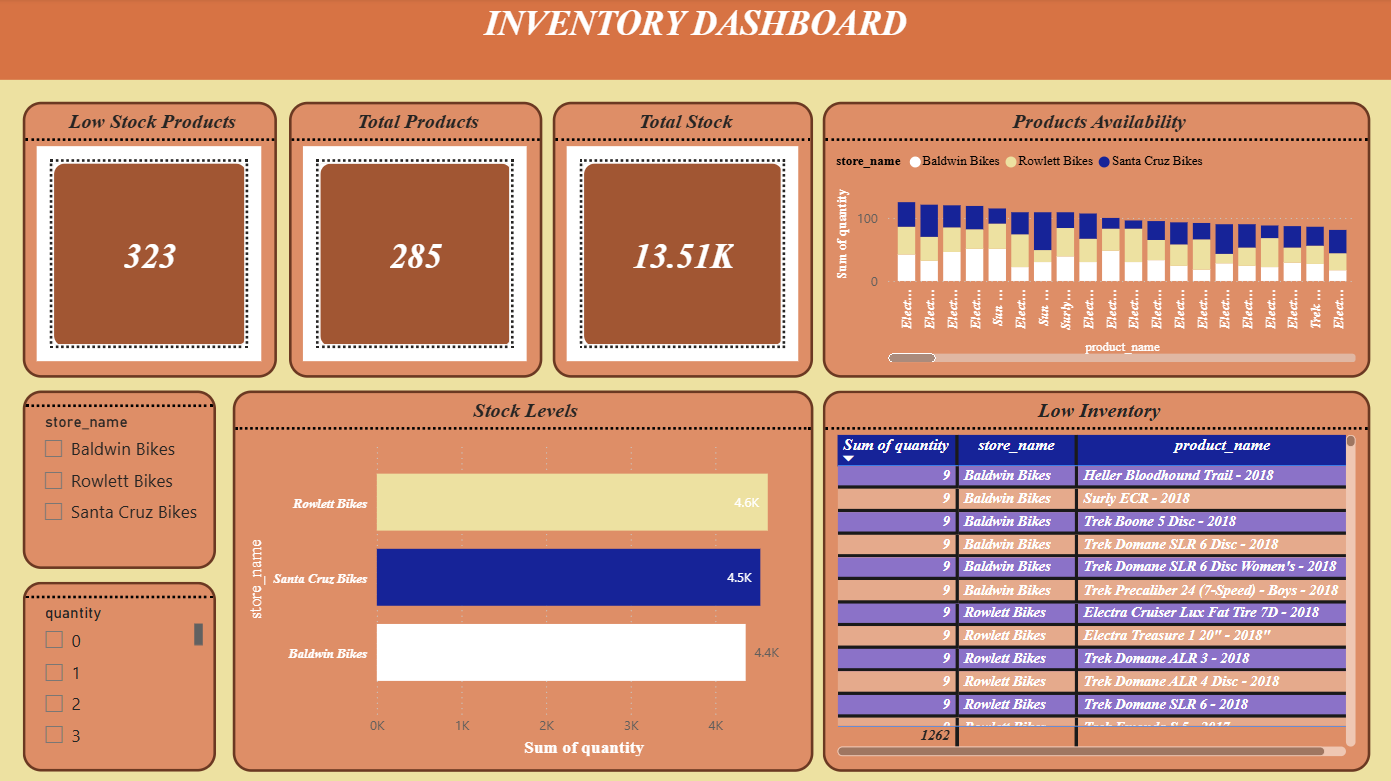

This screenshot's page, from the dashboard's own definition file:
{"tool":"powerbi","page":{"name":"INVENTORY DASHBOARD","canvas":[1280,720],"ordinal":1},"visuals":[{"type":"clusteredBarChart","title":"Stock Levels","fields":{"Category":["inventory_summary.store_name"],"Y":["Sum(inventory_summary.quantity)"]},"box":[215.1,360.5,533.7,350],"z":0},{"type":"tableEx","title":"Low Inventory","fields":{"Values":["Sum(inventory_summary.quantity)","inventory_summary.store_name","inventory_summary.product_name"]},"box":[757,360.5,503.5,350],"z":1000},{"type":"columnChart","title":"Products Availability","fields":{"Category":["inventory_summary.product_name"],"Y":["Sum(inventory_summary.quantity)"],"Series":["inventory_summary.store_name"]},"box":[757,95.3,503.5,253.5],"z":2000},{"type":"cardVisual","title":"Low Stock Products","fields":{"Data":["inventory_summary.Low Stock Products"]},"box":[22.1,95.3,233.7,253.5],"z":3000},{"type":"cardVisual","title":"Total Products","fields":{"Data":["inventory_summary.Total Products"]},"box":[266.3,95.3,232.6,253.5],"z":4000},{"type":"textbox","box":[0,0,1280.2,75.6],"z":5000},{"type":"cardVisual","title":"Total Stock","fields":{"Data":["inventory_summary.Total Stock"]},"box":[509.3,95.3,239.5,253.5],"z":6000},{"type":"slicer","fields":{"Values":["inventory_summary.store_name"]},"box":[22.1,360.5,177.9,164],"z":7000},{"type":"slicer","fields":{"Values":["inventory_summary.quantity"]},"box":[22.1,536,177.9,174.4],"z":8000}]}

Visuals, with their boxes in screenshot pixels (x1, y1, x2, y2), scaled from the page's 1280x720 canvas onto the 1391x781 screenshot:
"Stock Levels" clusteredBarChart: crop(234, 391, 814, 771)
"Low Inventory" tableEx: crop(823, 391, 1370, 771)
"Products Availability" columnChart: crop(823, 103, 1370, 378)
"Low Stock Products" cardVisual: crop(24, 103, 278, 378)
"Total Products" cardVisual: crop(289, 103, 542, 378)
textbox: crop(0, 0, 1390, 82)
"Total Stock" cardVisual: crop(553, 103, 814, 378)
slicer - inventory_summary.store_name: crop(24, 391, 217, 569)
slicer - inventory_summary.quantity: crop(24, 581, 217, 771)
